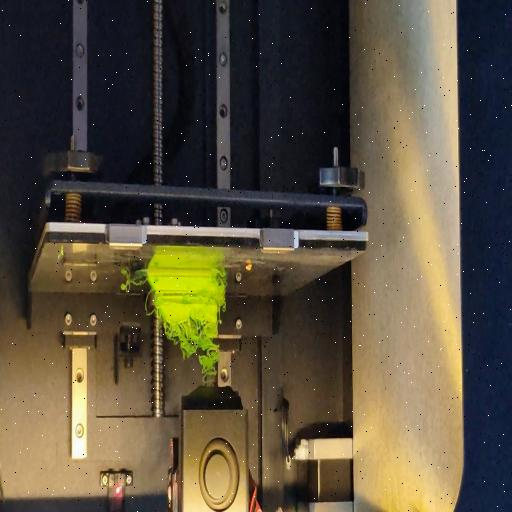spaghetti: (160, 319, 222, 381), (118, 278, 146, 294), (144, 286, 154, 321), (219, 266, 224, 281)
